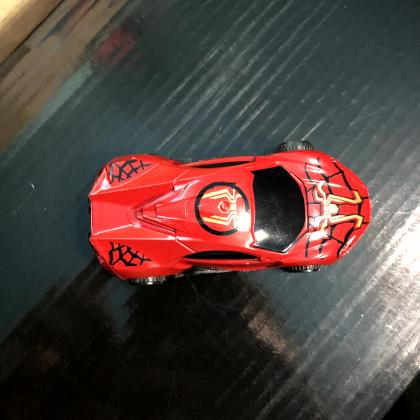Car: (88, 150, 373, 287)
